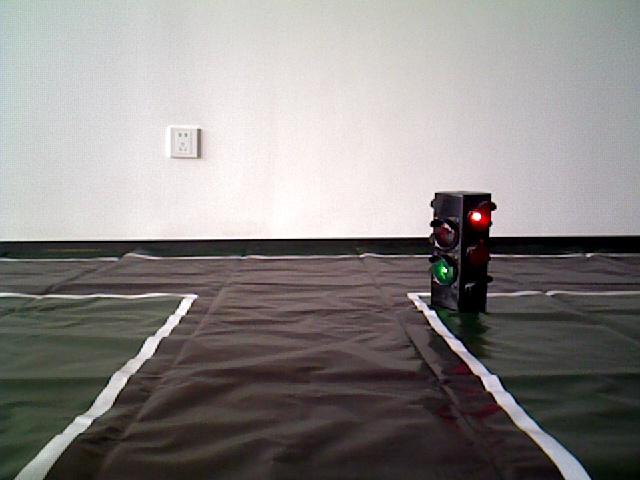red: (433, 196, 493, 311)
